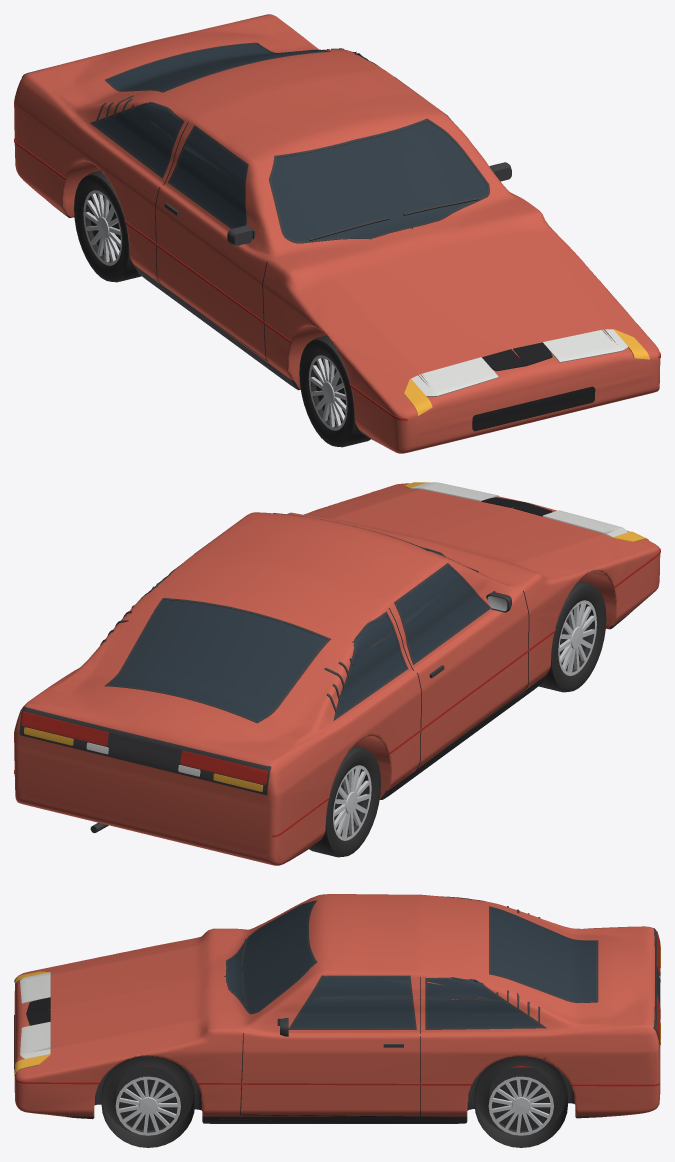
File: foxgt.glb
3 renders of one model, top to bottom at view 1: azimuth 30°, elevation 25°; view 2: azimuth 150°, elevation 25°; view 3: azimuth 270°, elevation 25°, orthographic. The views are drawn at different scales.
Parts seen in each view (by area): view 1: paint, glass, trim, wheel_fr, wheel_rr, headlights; view 2: paint, glass, trim, wheel_rr, wheel_fr, taillights, headlights; view 3: paint, glass, trim, wheel_fl, wheel_rl, headlights.
Part boxes in pixels (x1,y1,x2,y2): paint: (14,14,660,453); glass: (95,43,487,240); trim: (14,14,660,431); wheel_fr: (299,335,370,447); wheel_rr: (74,170,141,282); headlights: (411,329,628,396); paint: (14,483,660,865); glass: (108,550,488,721); trim: (14,497,660,837); wheel_rr: (309,745,380,857); wheel_fr: (538,580,606,692); taillights: (21,711,267,784); headlights: (411,482,627,537); paint: (14,894,660,1123); glass: (225,902,596,1028); trim: (14,896,660,1117); wheel_fl: (101,1056,194,1147); wheel_rl: (474,1056,567,1147); headlights: (20,972,50,1058).
Bounding box in the file's own units: 1.84 × 1.31 × 4.43.
